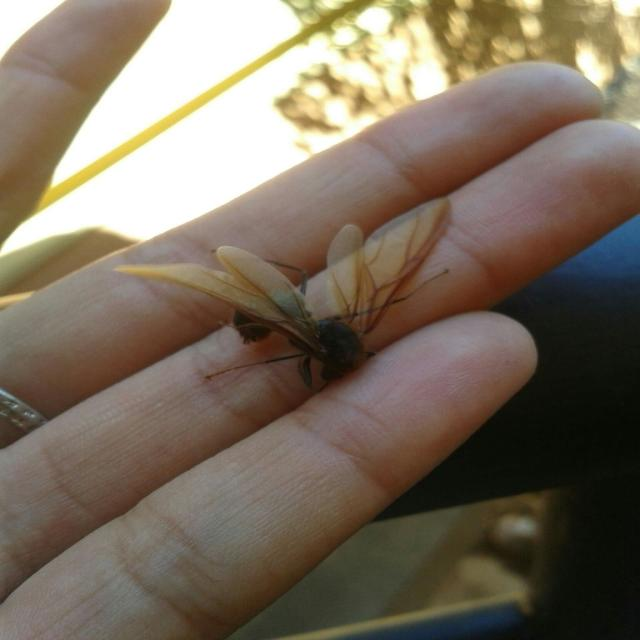Dead-Male-Alate: (114, 197, 451, 390)
